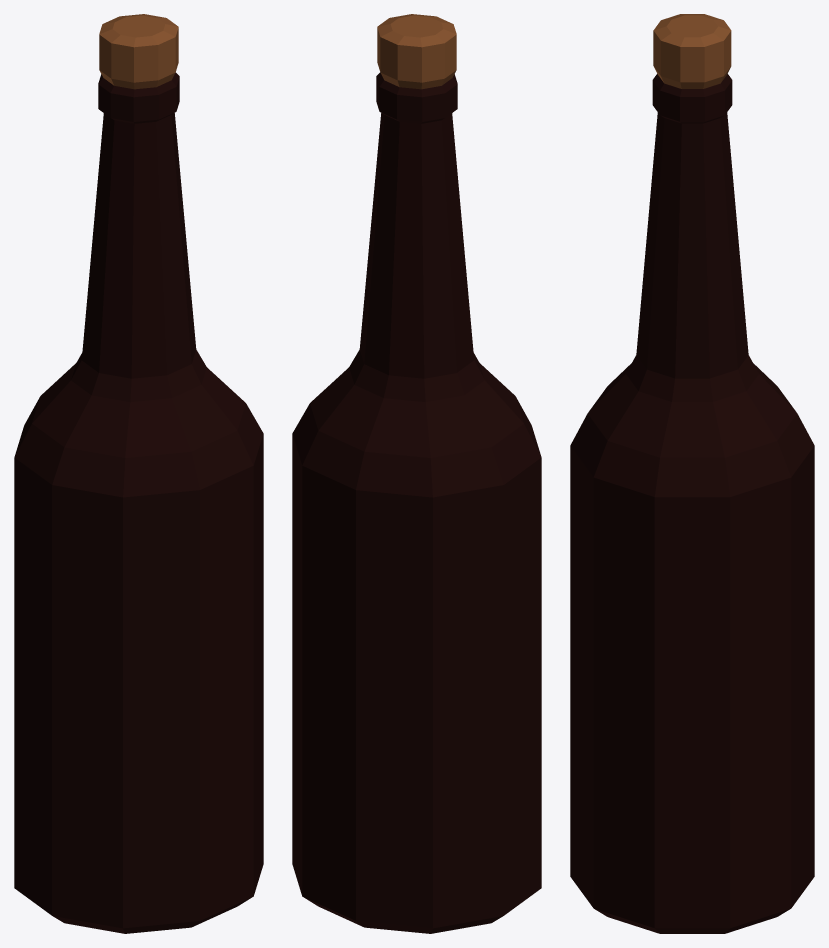
Rendered from ww_bottle_b.glb.
3 renders of one model, left to right at view 1: azimuth 30°, elevation 25°; view 2: azimuth 150°, elevation 25°; view 3: azimuth 270°, elevation 25°, orthographic.
Visible parts, largest first — view 1: Bottle_B; view 2: Bottle_B; view 3: Bottle_B.
Part boxes in pixels (left/top/right/bottom): Bottle_B: left=14, top=14, right=263, bottom=933; Bottle_B: left=292, top=14, right=541, bottom=933; Bottle_B: left=570, top=14, right=814, bottom=933.
Bounding box in the file's own units: 0.0804 × 0.3134 × 0.0804.
